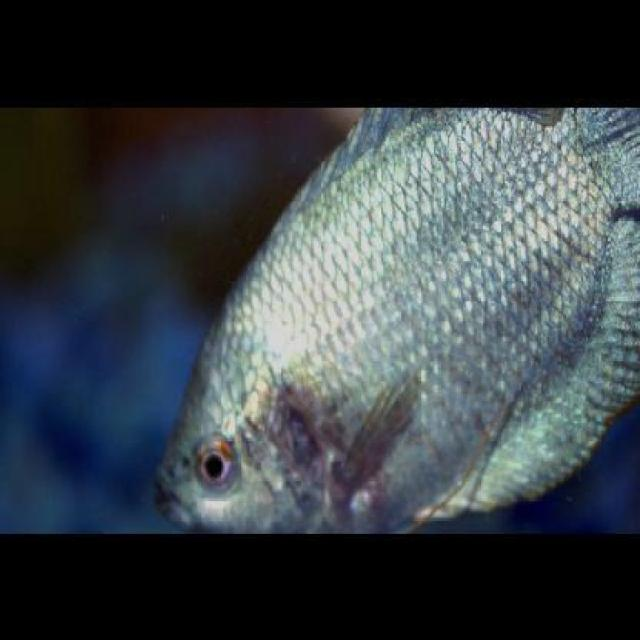Gourami: (150, 106, 638, 534)
